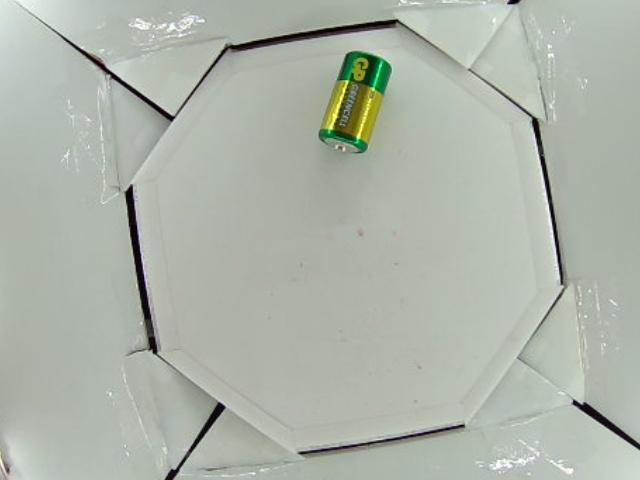Battery: (316, 51, 393, 155)
